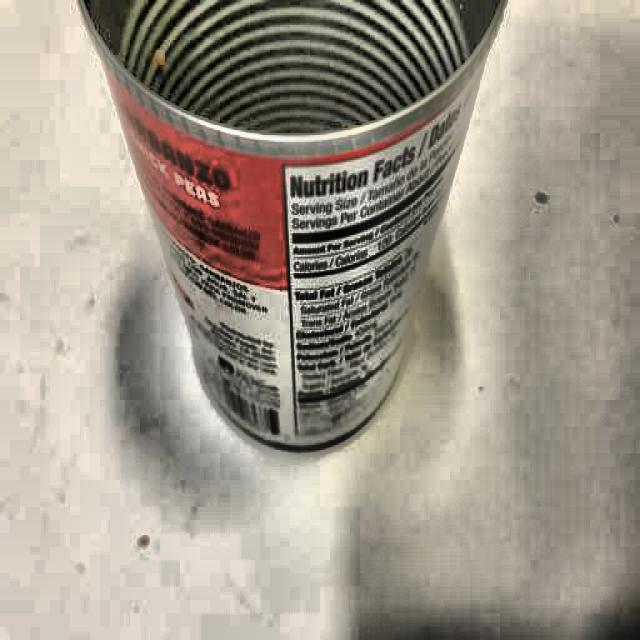metal: (69, 0, 509, 454)
